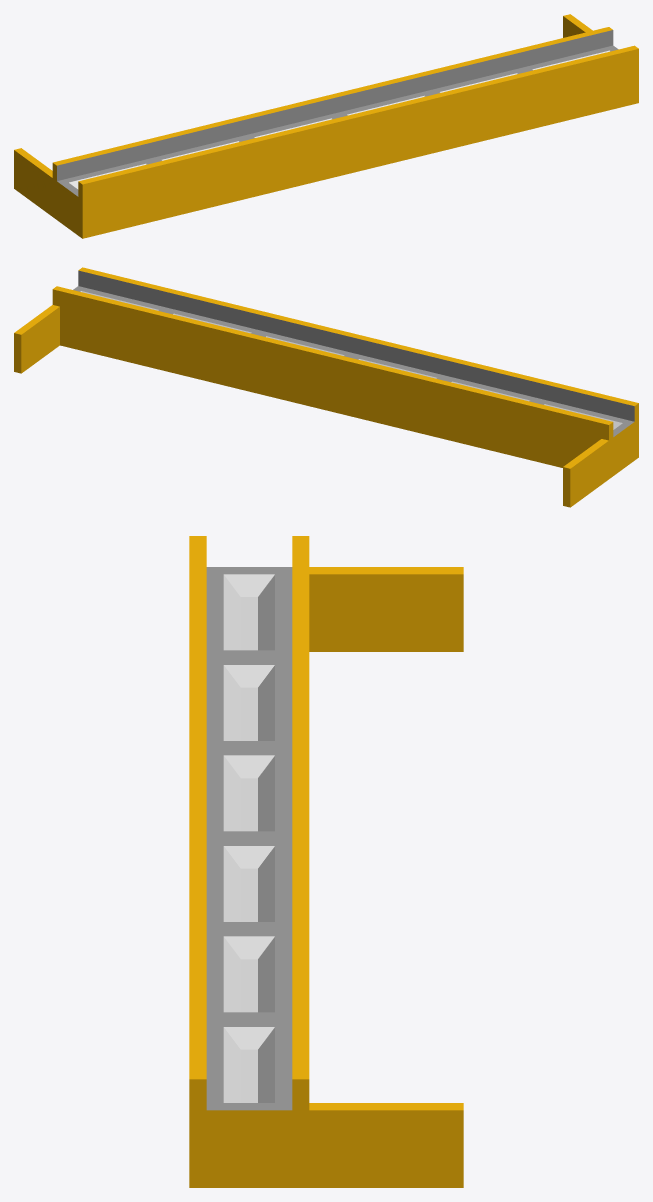
File: bar_light_large_mount.dae
3 renders of one model, top to bottom at view 1: azimuth 30°, elevation 25°; view 2: azimuth 150°, elevation 25°; view 3: azimuth 270°, elevation 25°, orthographic. The views are drawn at different scales.
Visible parts, largest first — view 1: Cube; view 2: Cube; view 3: Cube.
Boxes of the visible parts, <box> form: Cube: <box>14,14,638,238</box>; Cube: <box>14,267,638,507</box>; Cube: <box>189,536,463,1187</box>.
Bounding box in the file's own units: 0.75 × 0.16 × 0.07.
